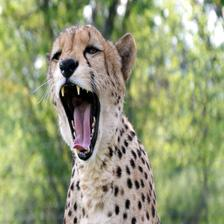Cheetah: (46, 24, 155, 224)
